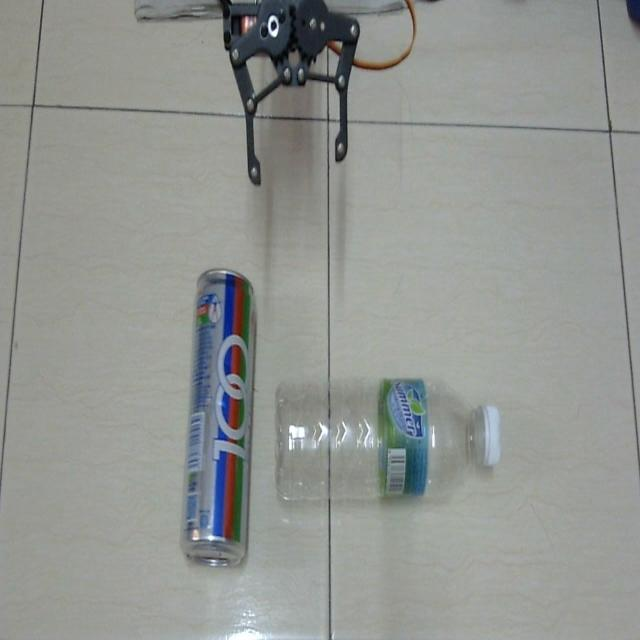metal_laydown_90rotation: (177, 254, 260, 586)
plastic_laydown_0rotation: (266, 363, 510, 526)
